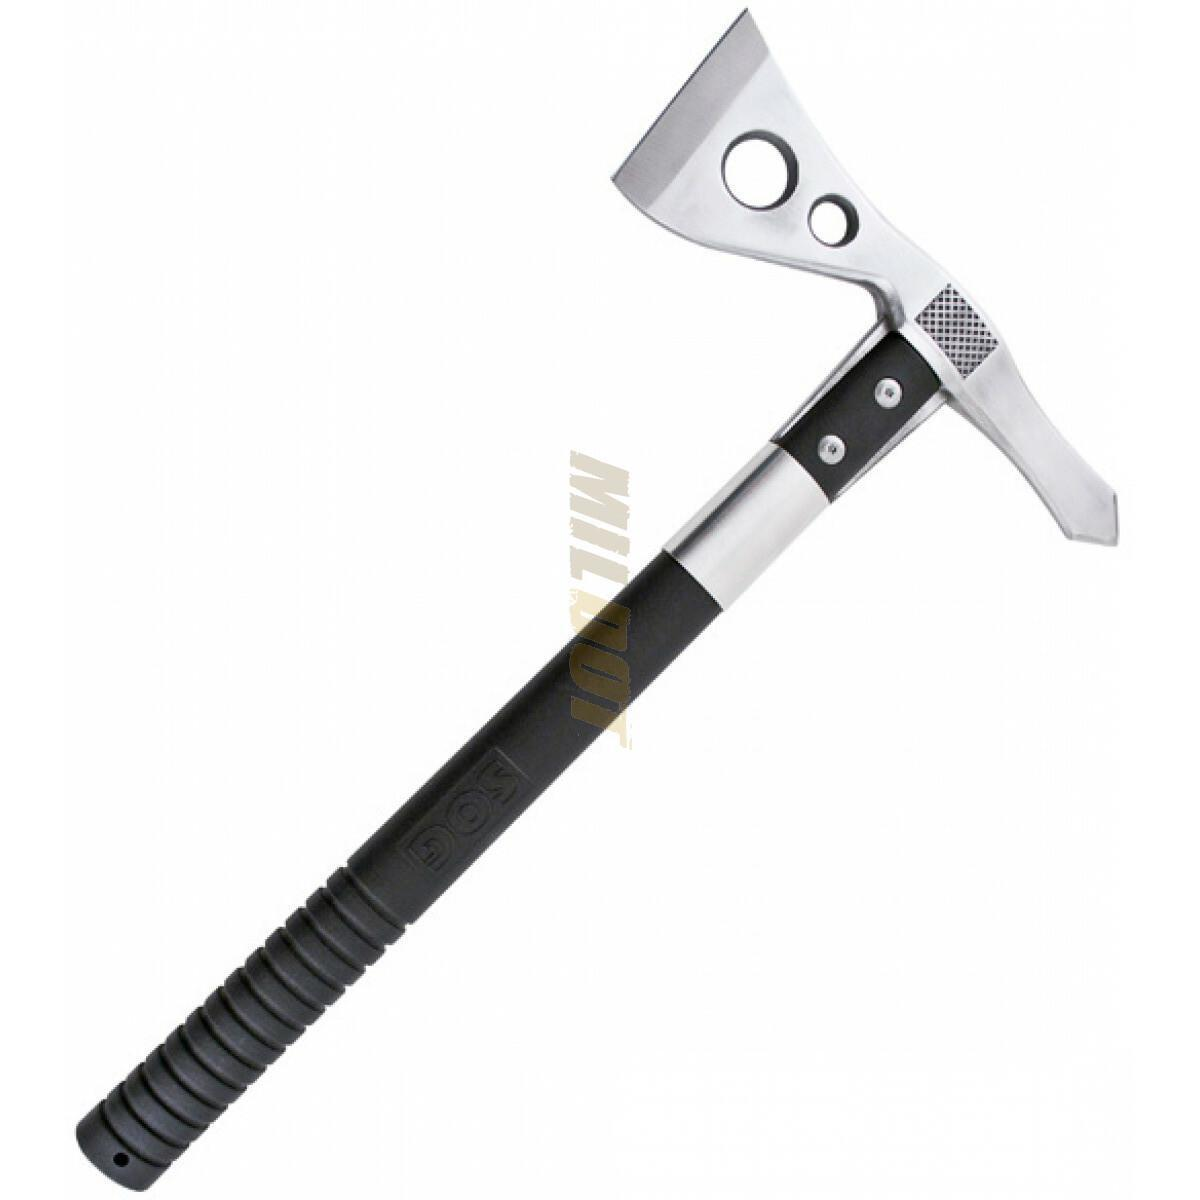machado: (77, 11, 1116, 1189)
